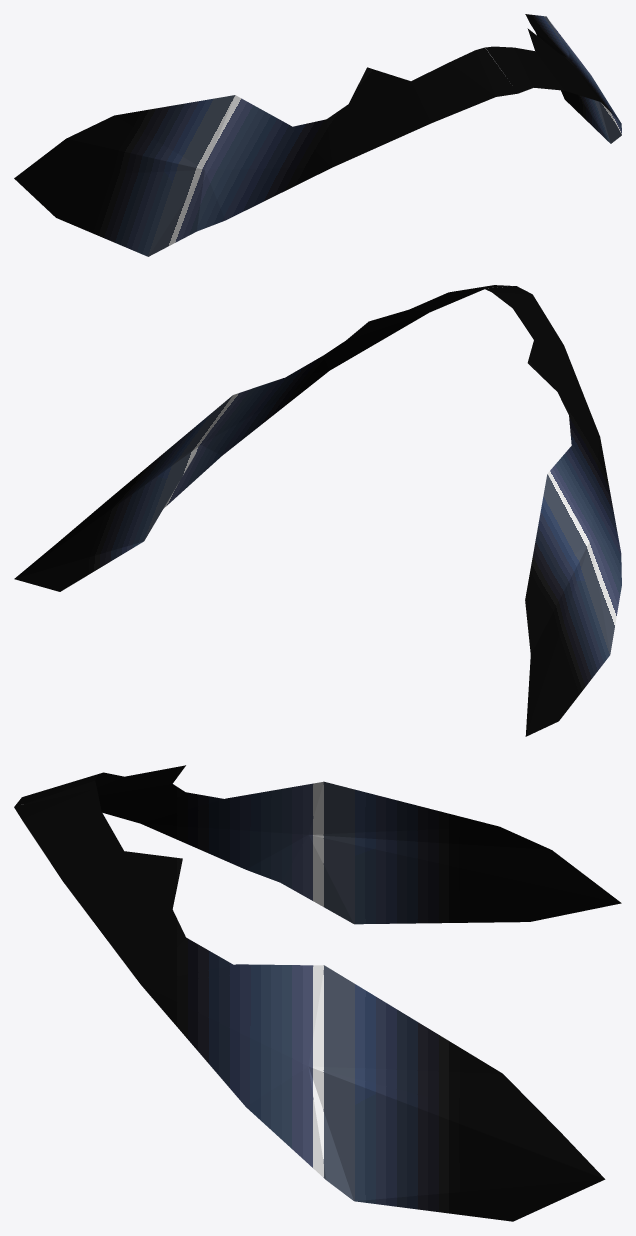
File: 0056_HT_FX_SiEZhenLong_eye.glb
The picture shows the model from 3 angles, top to bottom: view 1: azimuth 30°, elevation 25°; view 2: azimuth 150°, elevation 25°; view 3: azimuth 270°, elevation 25°; orthographic projection. The views are drawn at different scales.
Size of the model in its own units: 2.2 by 0.9742 by 1.83.
1 material, 1 textured.
